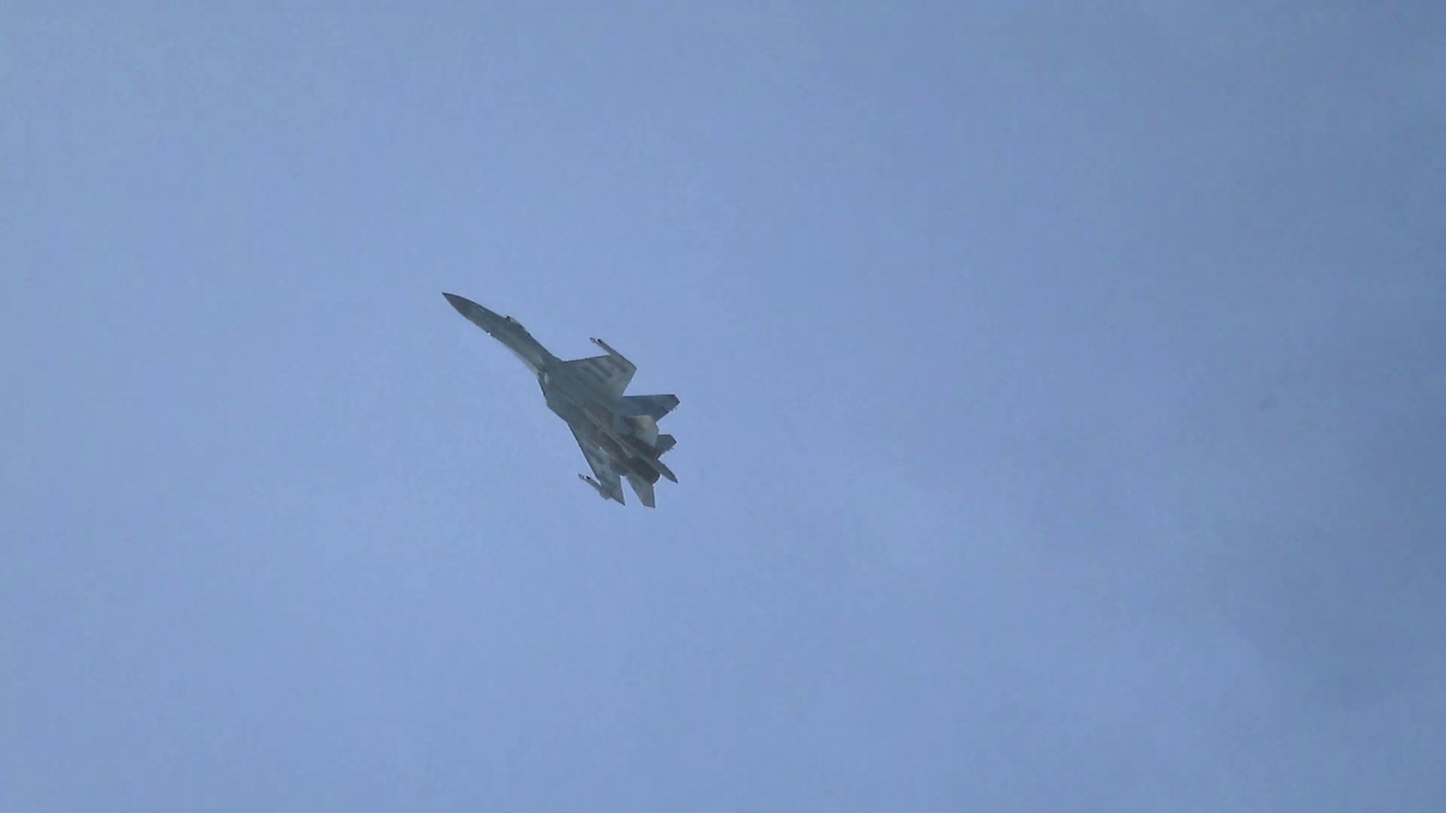Su35: (442, 292, 681, 508)
